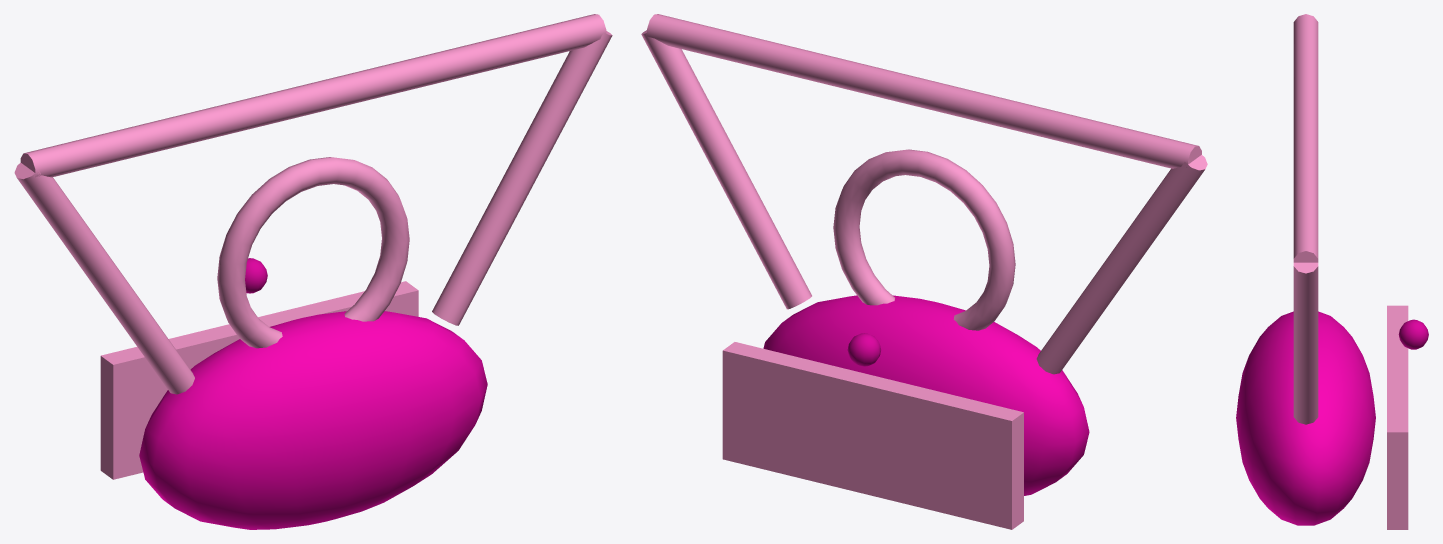
Rendered from VM-DAM-SH39628675.glb.
3 renders of one model, left to right at view 1: azimuth 30°, elevation 25°; view 2: azimuth 150°, elevation 25°; view 3: azimuth 270°, elevation 25°, orthographic. The views are drawn at different scales.
Visible parts, largest first — view 1: Bolso de Hombro Minimalista Cuadrado; view 2: Bolso de Hombro Minimalista Cuadrado; view 3: Bolso de Hombro Minimalista Cuadrado.
Boxes of the visible parts, x1,y1,x2,y2 form: Bolso de Hombro Minimalista Cuadrado: [14, 14, 612, 529]; Bolso de Hombro Minimalista Cuadrado: [641, 14, 1207, 529]; Bolso de Hombro Minimalista Cuadrado: [1236, 14, 1428, 529].
Bounding box in the file's own units: 0.5565 × 0.3883 × 0.1843.
